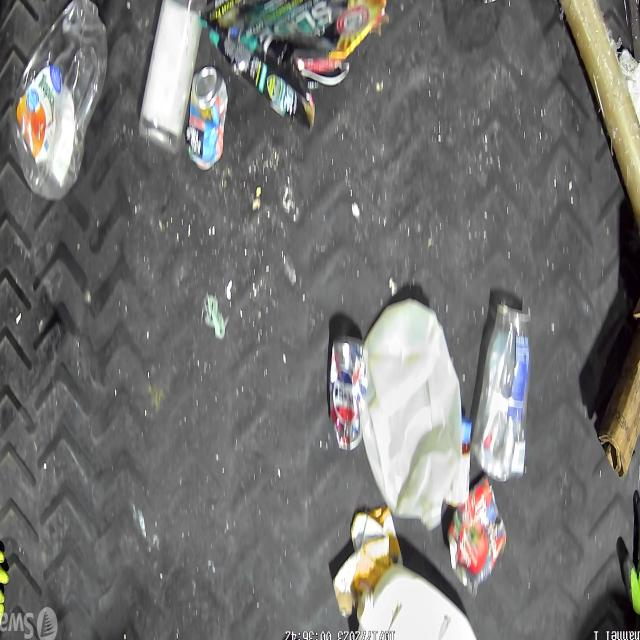can: (448, 475, 505, 599), (185, 62, 227, 172), (328, 336, 366, 450)
milk_jug: (360, 298, 462, 530), (353, 565, 483, 640)
non_white_jug: (11, 0, 108, 202)
plastic_bottle: (139, 0, 208, 152)
